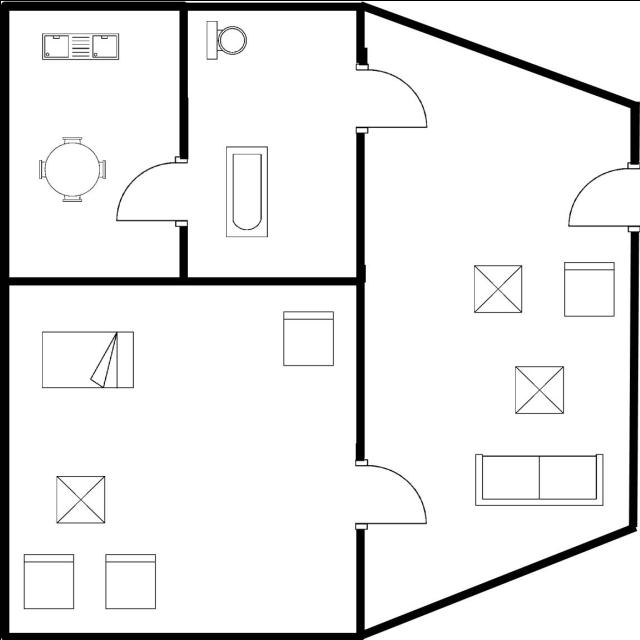bed: (34, 323, 139, 392)
coffee_table: (468, 260, 528, 316), (510, 362, 569, 418), (51, 471, 109, 526)
large_sink: (196, 16, 252, 64)
large_sofa: (470, 450, 610, 510)
round_table: (32, 130, 112, 205)
small_sofa: (276, 304, 341, 372), (100, 547, 160, 614), (558, 256, 620, 320), (19, 547, 79, 613)
tub: (217, 142, 275, 242)
twin_sink: (34, 27, 124, 64)
